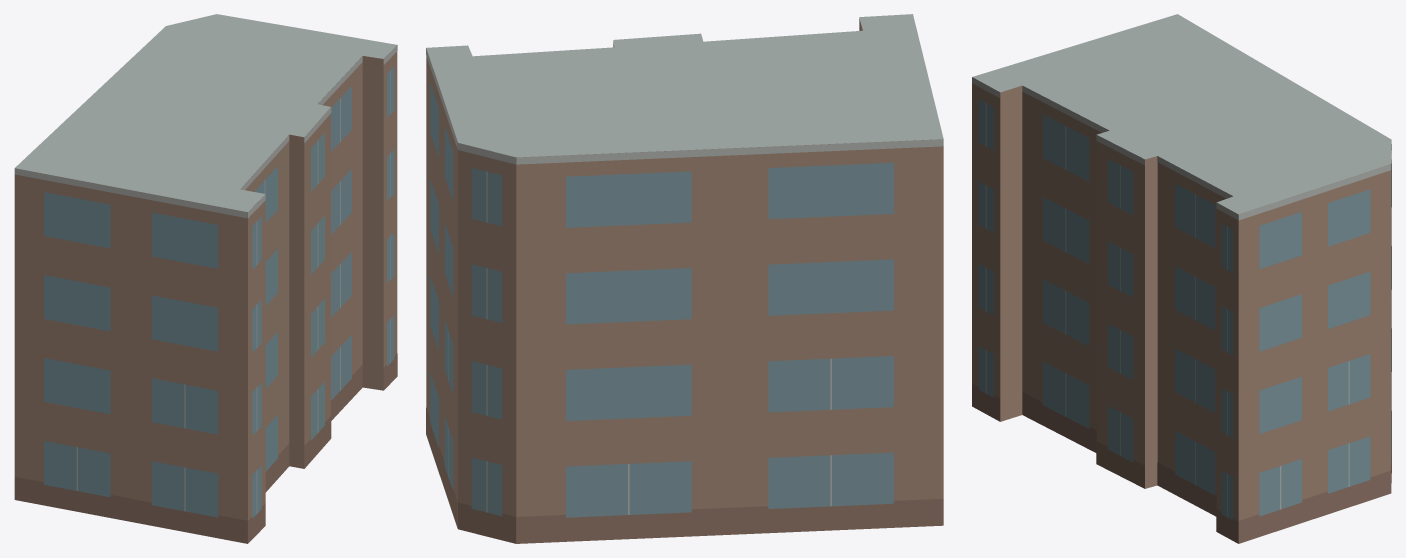
File: survey-upis-32696988.glb
The picture shows the model from 3 angles, left to right: view 1: azimuth 30°, elevation 25°; view 2: azimuth 150°, elevation 25°; view 3: azimuth 270°, elevation 25°; orthographic projection. The views are drawn at different scales.
Visible parts, largest first — view 1: survey-upis-32696988.tmp; view 2: survey-upis-32696988.tmp; view 3: survey-upis-32696988.tmp.
Boxes of the visible parts, x1,y1,x2,y2 form: survey-upis-32696988.tmp: (14, 14, 397, 543); survey-upis-32696988.tmp: (426, 14, 943, 543); survey-upis-32696988.tmp: (972, 14, 1391, 543).
Bounding box in the file's own units: 17.1 × 13.1 × 15.13.
